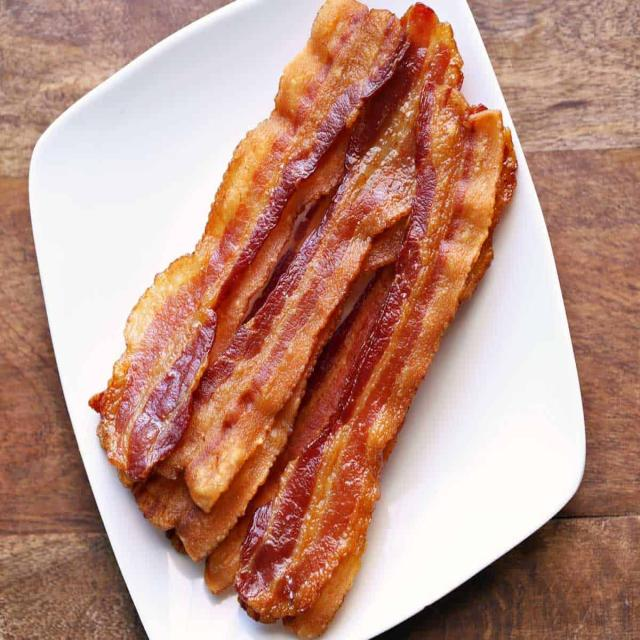Bacon: (209, 23, 515, 637), (98, 2, 405, 481), (158, 48, 425, 511)
